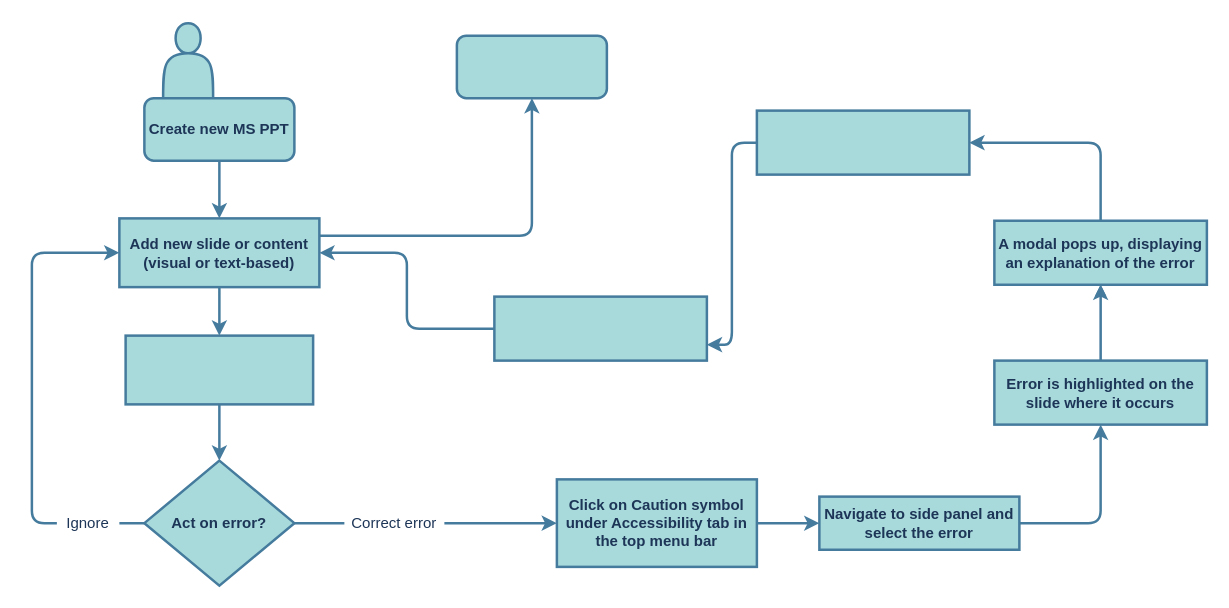
Some shapes in this 1229 by 608 pixel diagram are drawn without their labels. The shapes that lost their labels are listed below. From the top down, each one's centre as x and y in pixels, then its label:
At point 531,66: "Finish creating slides".
At point 862,142: "Manually correct accessibility error".
At point 600,328: "Error is now updated with a strikethrough".
At point 219,369: "Accessibility error detected".
